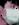with_mask: (2, 1, 19, 25)
